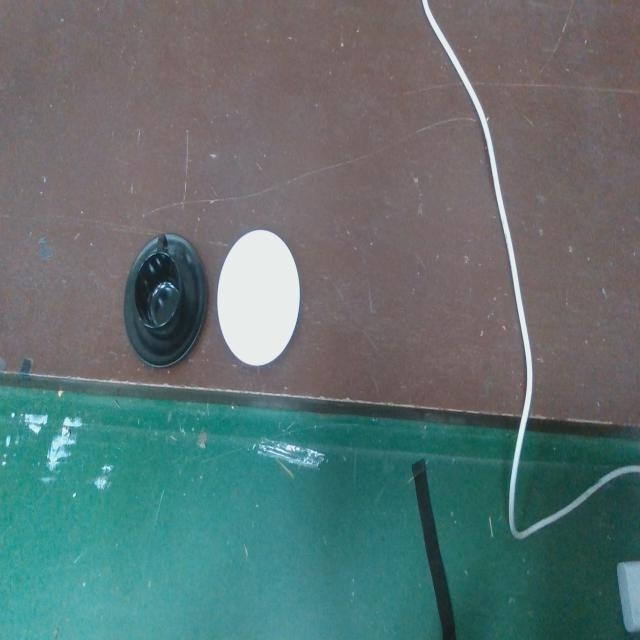black: (121, 228, 208, 371)
white: (214, 225, 303, 372)
